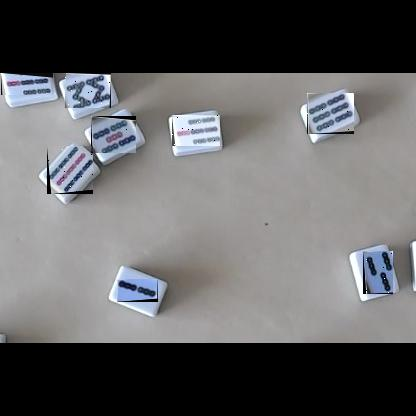2s: (117, 279, 158, 302)
3s: (363, 251, 393, 294)
5s: (91, 116, 136, 153)
6s: (307, 93, 354, 134)
7s: (172, 115, 220, 146), (1, 73, 53, 95)
8s: (65, 73, 111, 108)
9s: (47, 146, 93, 194)
